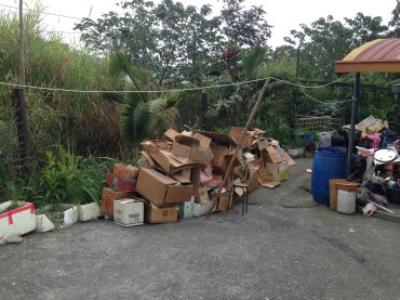box: (135, 165, 195, 206), (162, 128, 211, 159), (111, 198, 144, 227), (147, 202, 179, 224), (259, 146, 283, 164)
bucket: (310, 146, 348, 205), (336, 188, 358, 216)
styrofoam: (1, 197, 37, 241), (33, 201, 78, 233), (78, 202, 103, 222)
